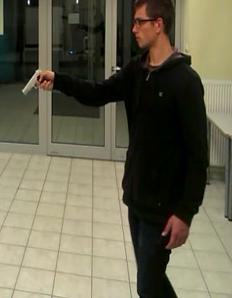pistol: (21, 68, 50, 95)
